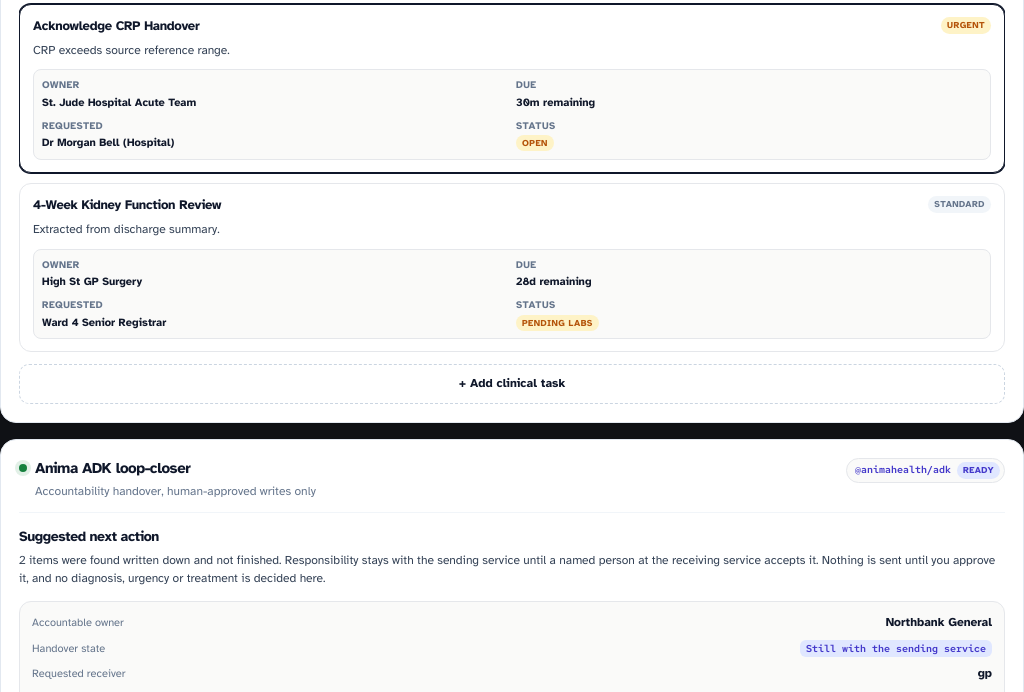
Scenario: CommandCockpit › adds a clinician task to the current episode ledger
(page scrolled)
Click the button "+ Add clinical task" at coordinates (512, 384), box [19,364,1005,404]
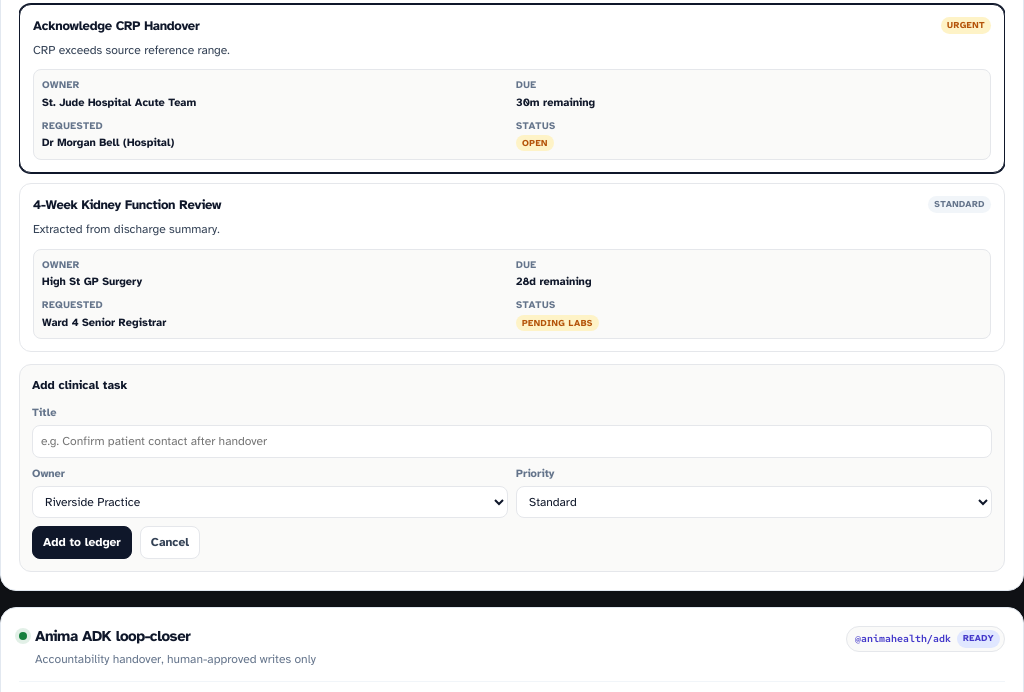
Type "Post-Discharge Monitoring" into the field with placeholder "e.g. Confirm patient contact after handover" at coordinates (512, 442), box [32,425,992,458]
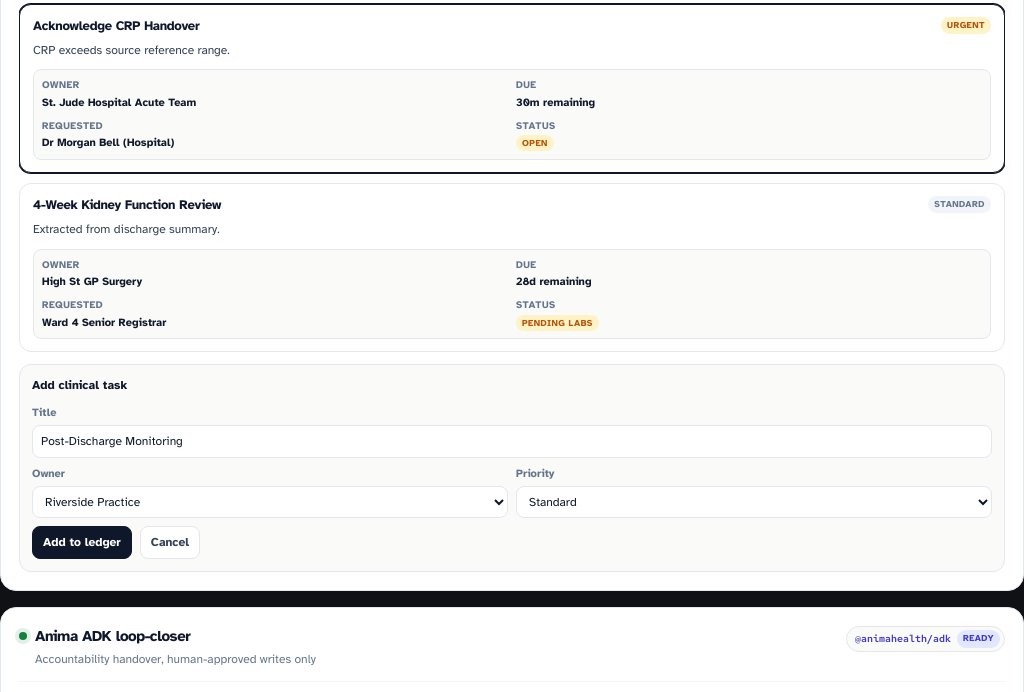
Click the button "Add to ledger" at coordinates (82, 543), box [32,526,132,560]
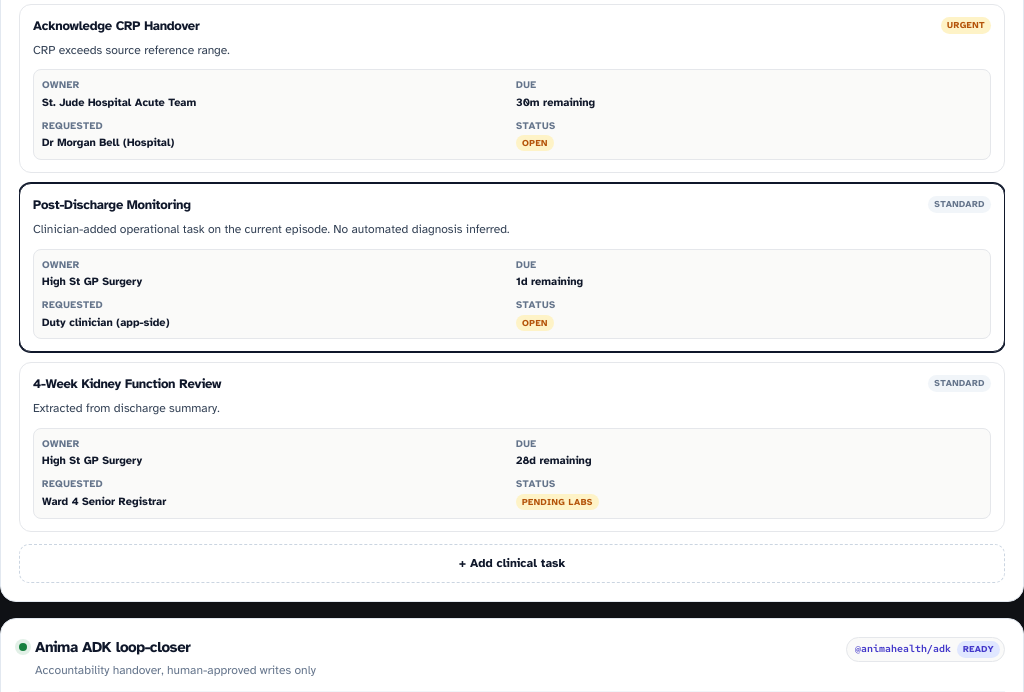
expect the text "Post-Discharge Monitoring" is shown: met, box [33,196,191,215]
